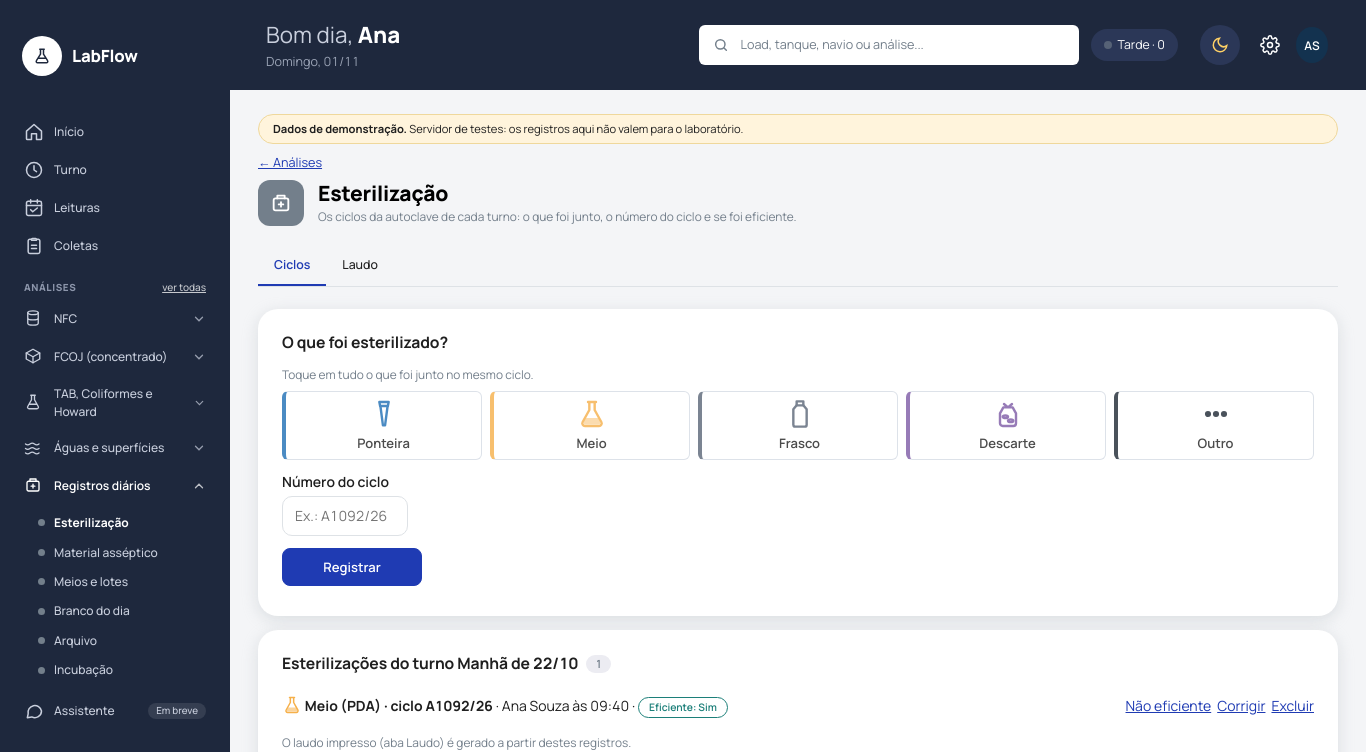
Test: Laudo de esterilização (APP-035) › avisa, sem bloquear, quando o ciclo digitado já tem material
Click the button "Frasco".
click(798, 426)  # box [698,391,898,460]
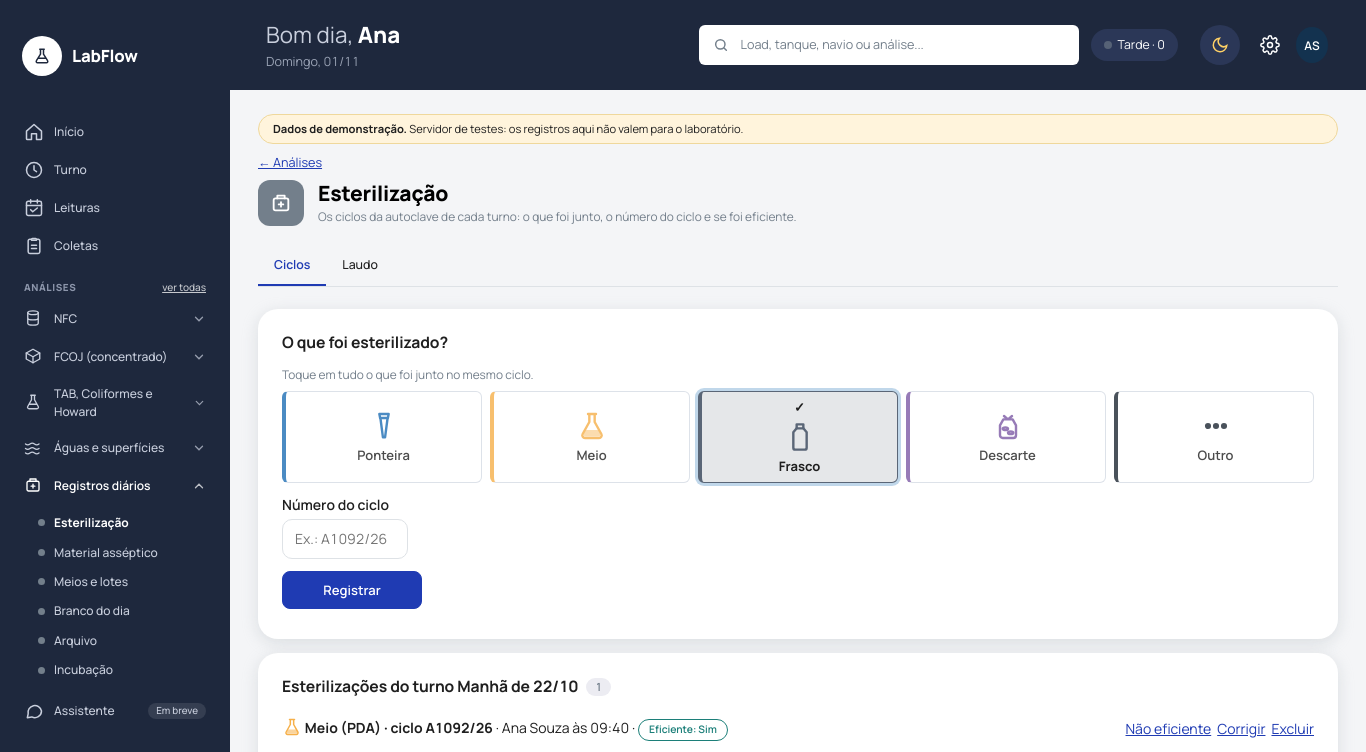
Type "A1092/26" into the field labelled "Número do ciclo".
click(345, 539); type("A1092/26")  # box [282,519,408,559]
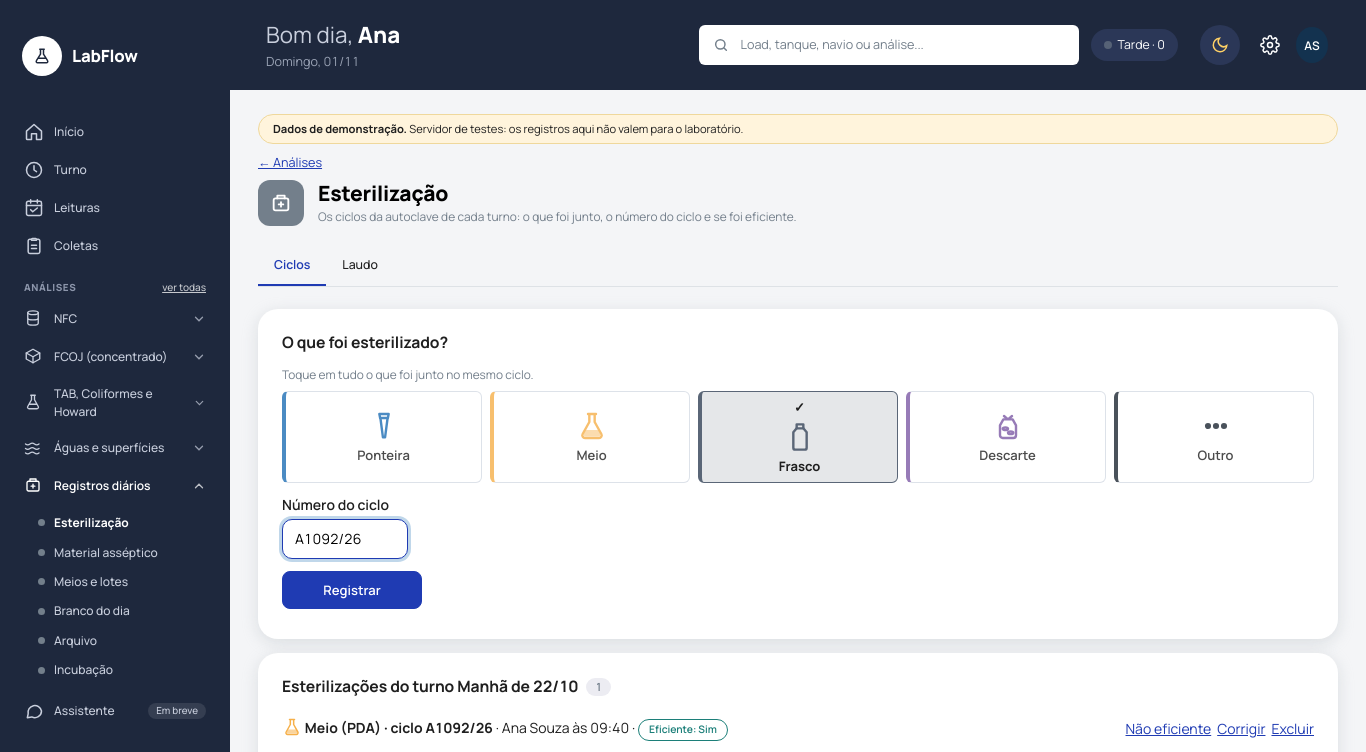
Press Tab
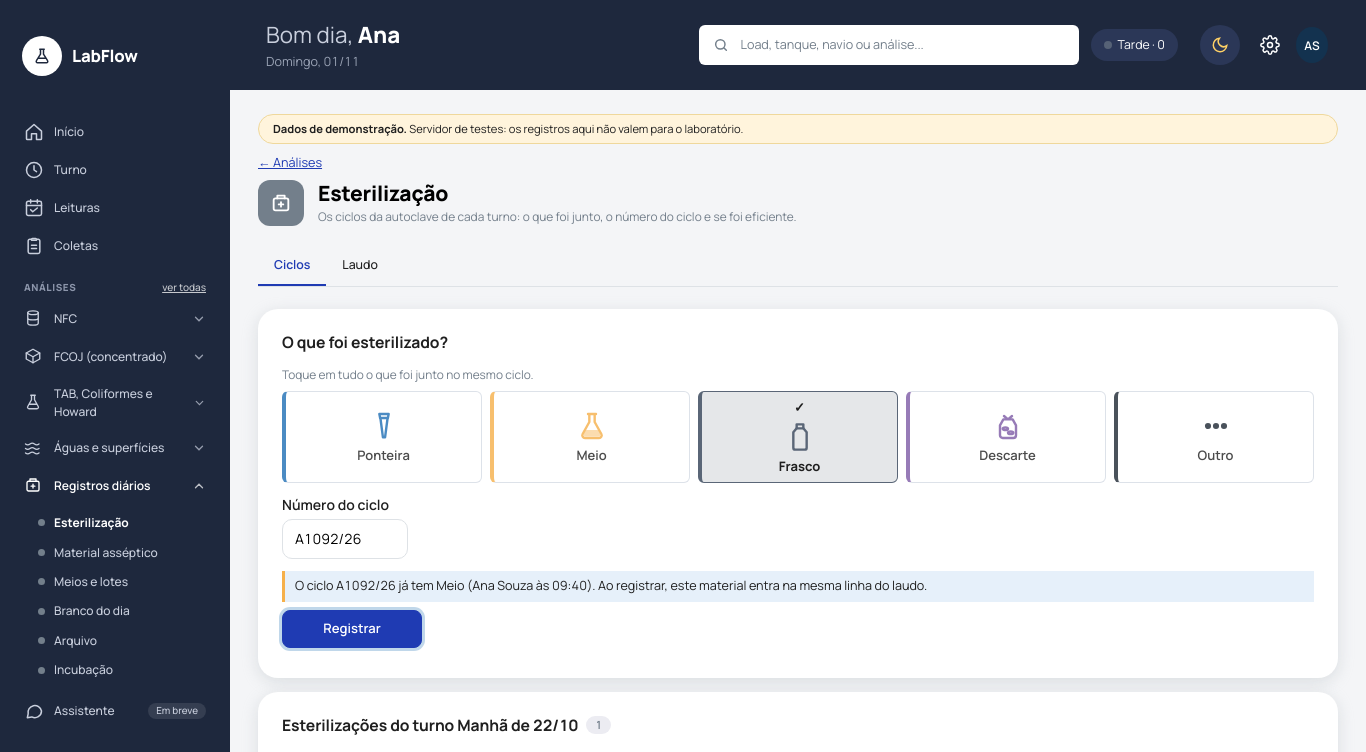
expect the button "Registrar" is enabled: met, box [282,610,422,648]
expect the message shows "O ciclo A1092/26 já tem Meio (Ana Souza às 09:40)": met, box [282,571,1314,602]
